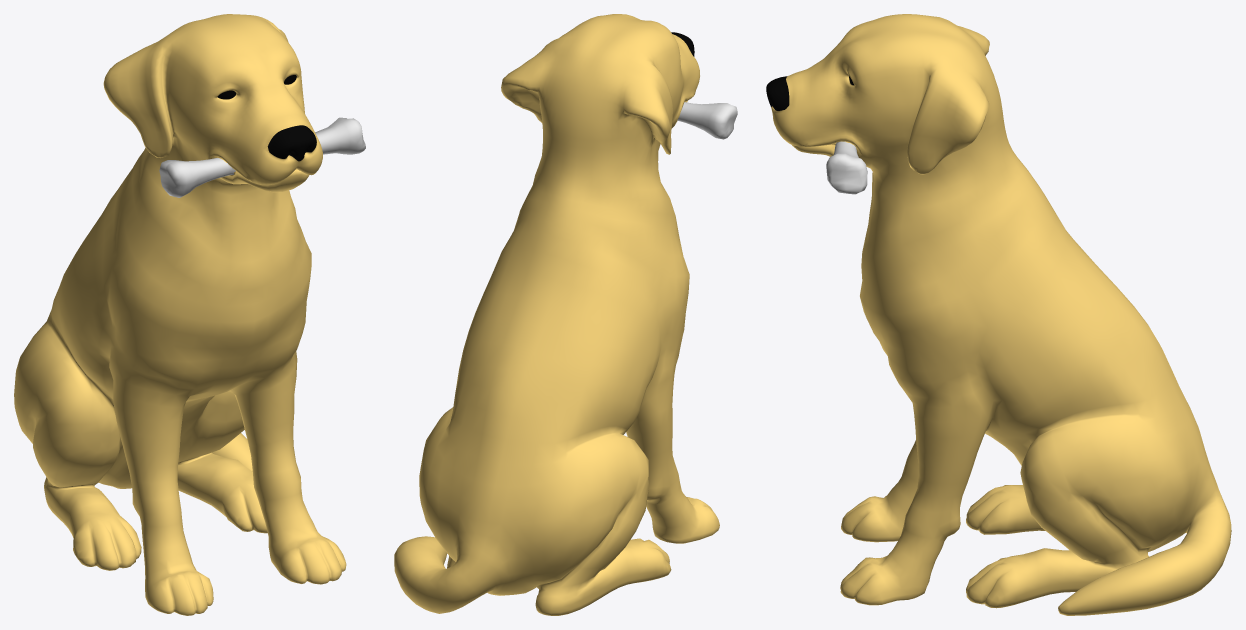
The model's file is dog.fbx.
The picture shows the model from 3 angles, left to right: view 1: azimuth 30°, elevation 25°; view 2: azimuth 150°, elevation 25°; view 3: azimuth 270°, elevation 25°; orthographic projection. The views are drawn at different scales.
Parts seen in each view (by area): view 1: 13180_ConcreteDogStatue_v1_NEW; view 2: 13180_ConcreteDogStatue_v1_NEW; view 3: 13180_ConcreteDogStatue_v1_NEW.
Boxes of the visible parts, box(x1,y1,x2,y2) form: 13180_ConcreteDogStatue_v1_NEW: box(14, 14, 365, 615); 13180_ConcreteDogStatue_v1_NEW: box(394, 14, 737, 615); 13180_ConcreteDogStatue_v1_NEW: box(766, 14, 1231, 615).
Bounding box in the file's own units: 1897 × 4266 × 3355.
